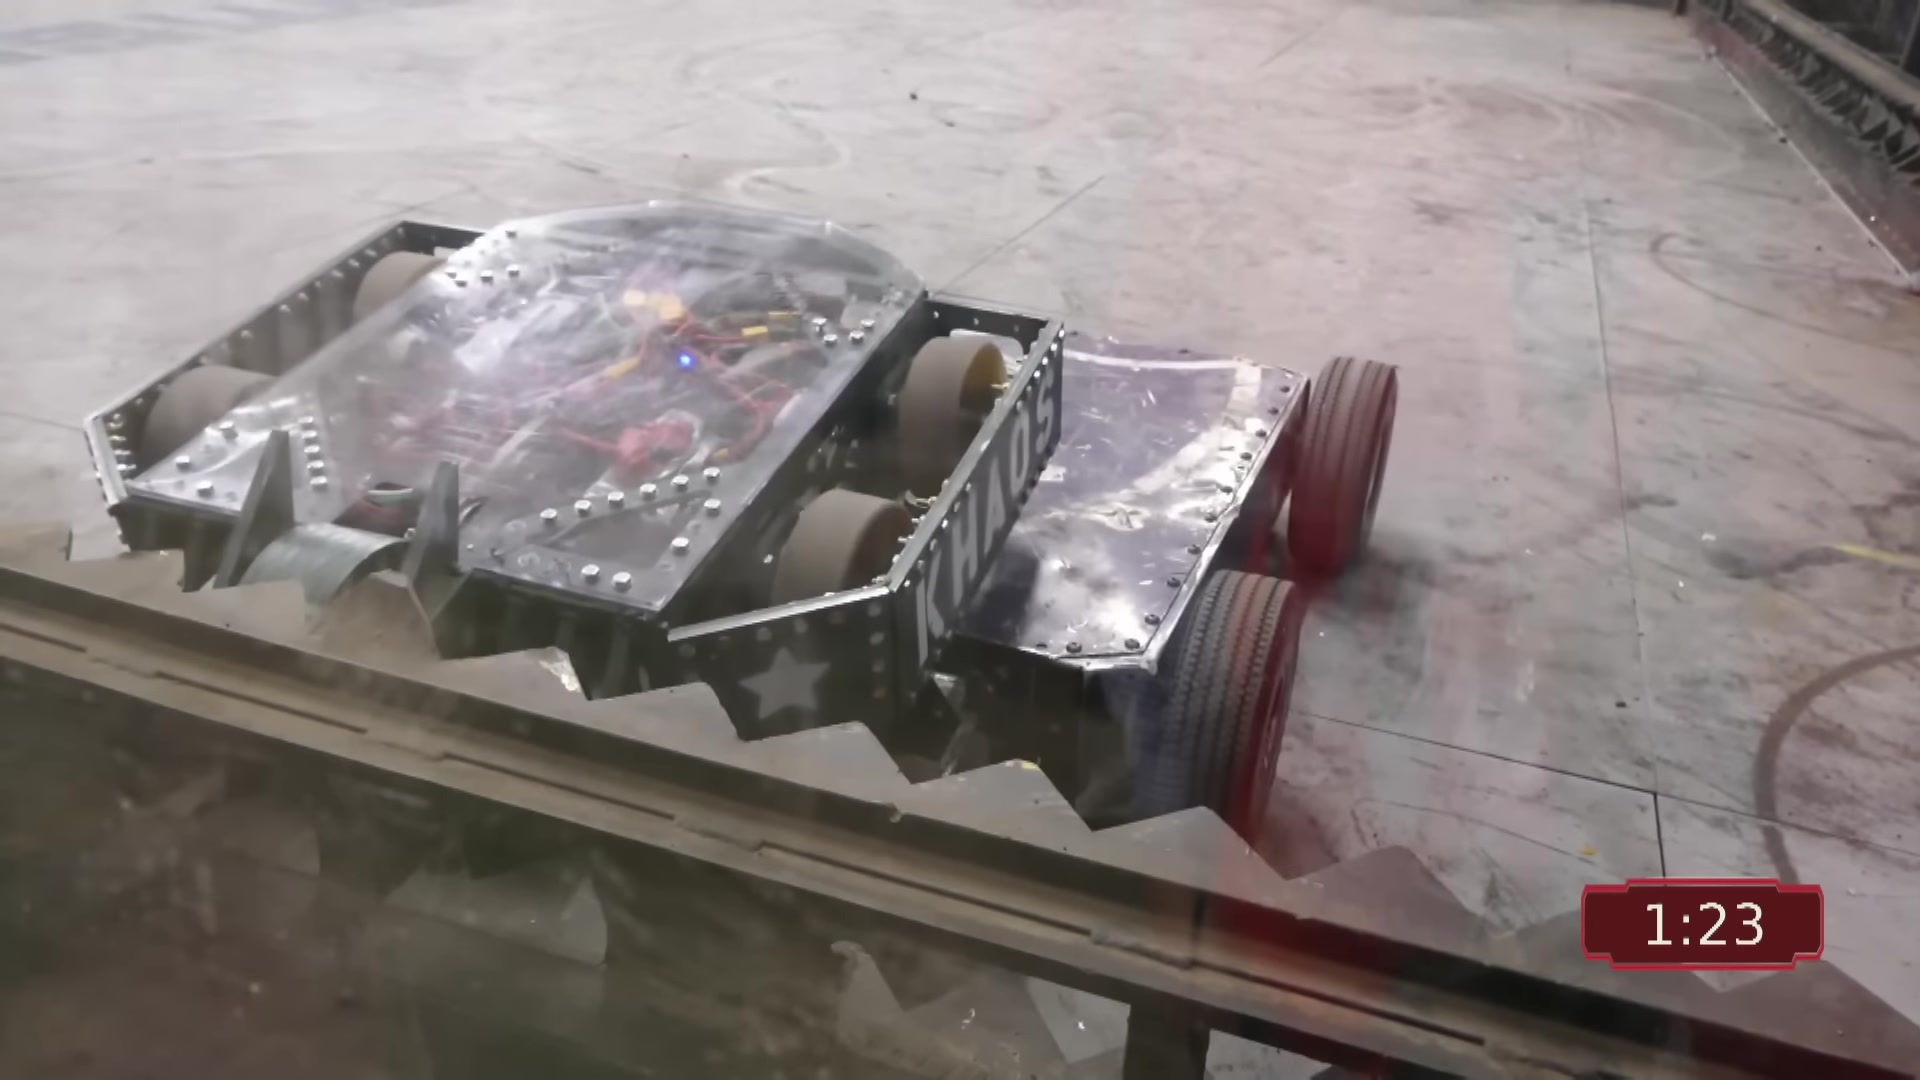combatbot: (83, 199, 1396, 878)
